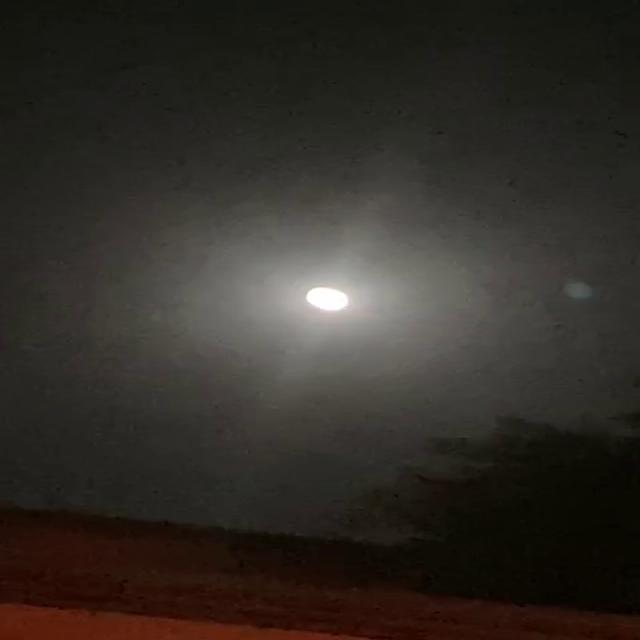moon: (298, 282, 356, 314)
